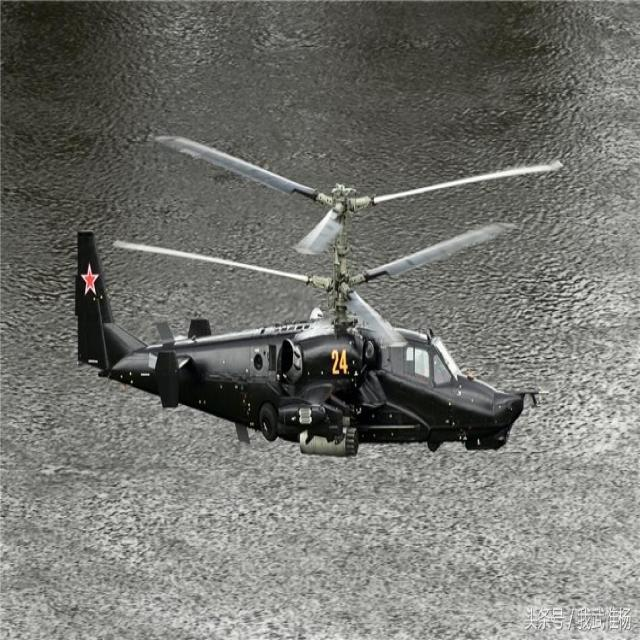MIL_HELO: (61, 129, 573, 469)
